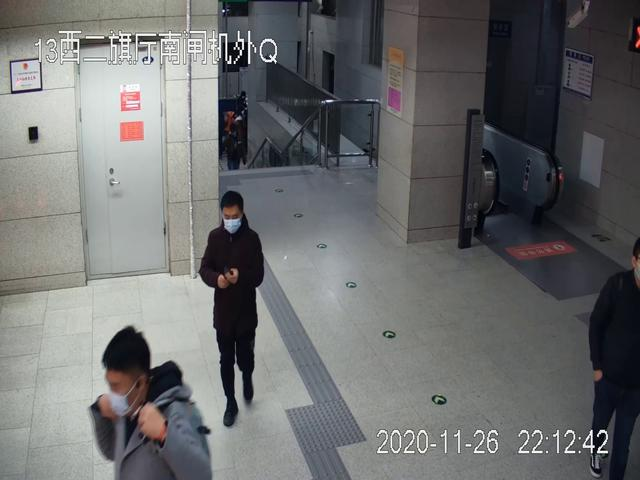person: (89, 325, 212, 480), (198, 192, 266, 429), (588, 238, 640, 480)
